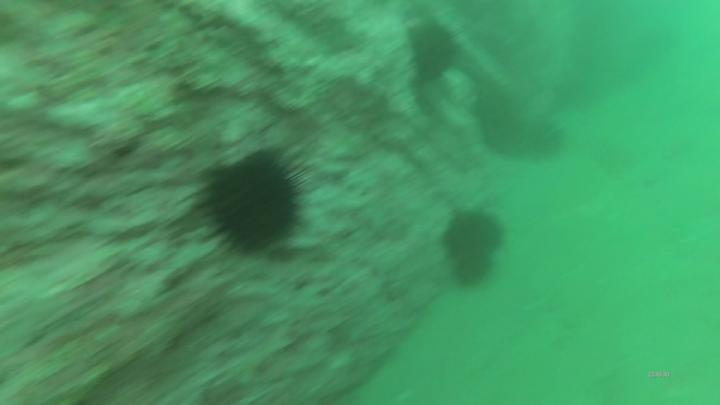echinus: (199, 148, 306, 255), (443, 204, 508, 294), (408, 19, 465, 85), (510, 111, 568, 167)
